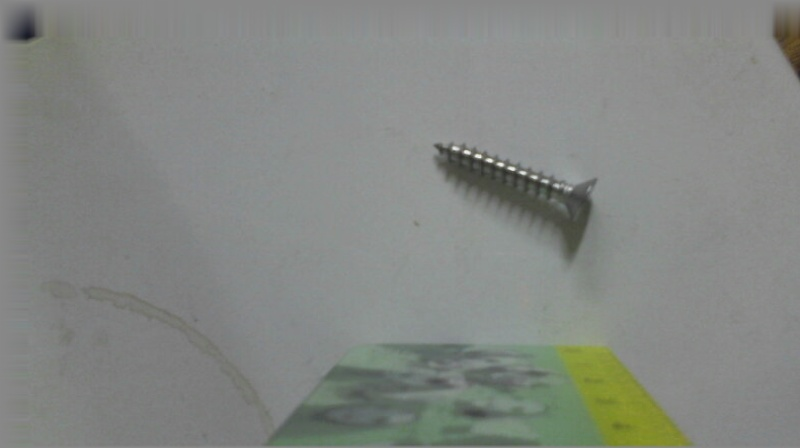S001: (428, 136, 602, 221)
